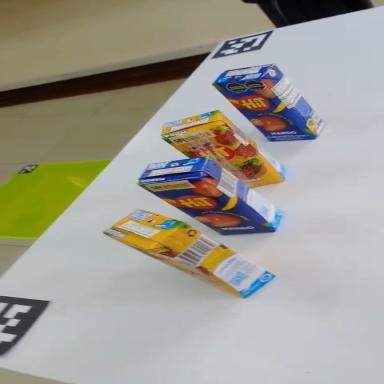HIT-MANGO: (137, 133, 289, 257), (211, 42, 332, 163)
HIT-MORA: (104, 190, 276, 318), (157, 90, 291, 217)
cara_F: (138, 150, 275, 267), (162, 102, 284, 218), (212, 57, 318, 163)
